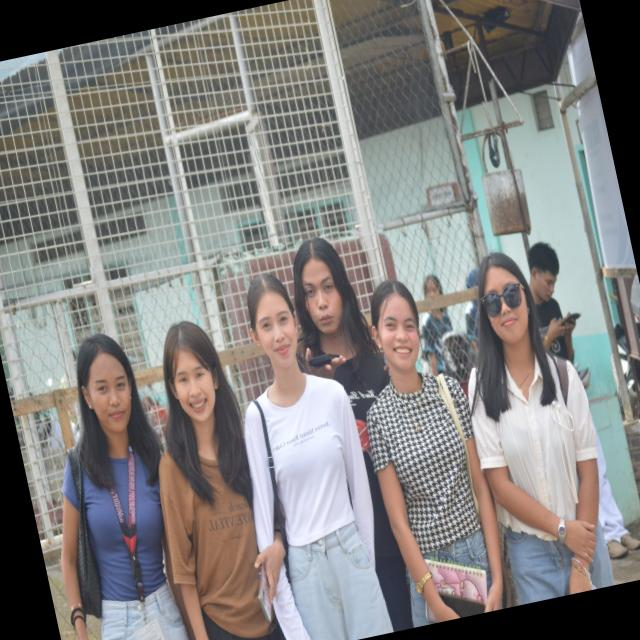person: (244, 275, 391, 639), (468, 253, 612, 602), (293, 238, 412, 631), (367, 281, 502, 626), (158, 322, 282, 639), (76, 335, 188, 639), (595, 432, 639, 559), (420, 310, 451, 376), (465, 300, 478, 351)
